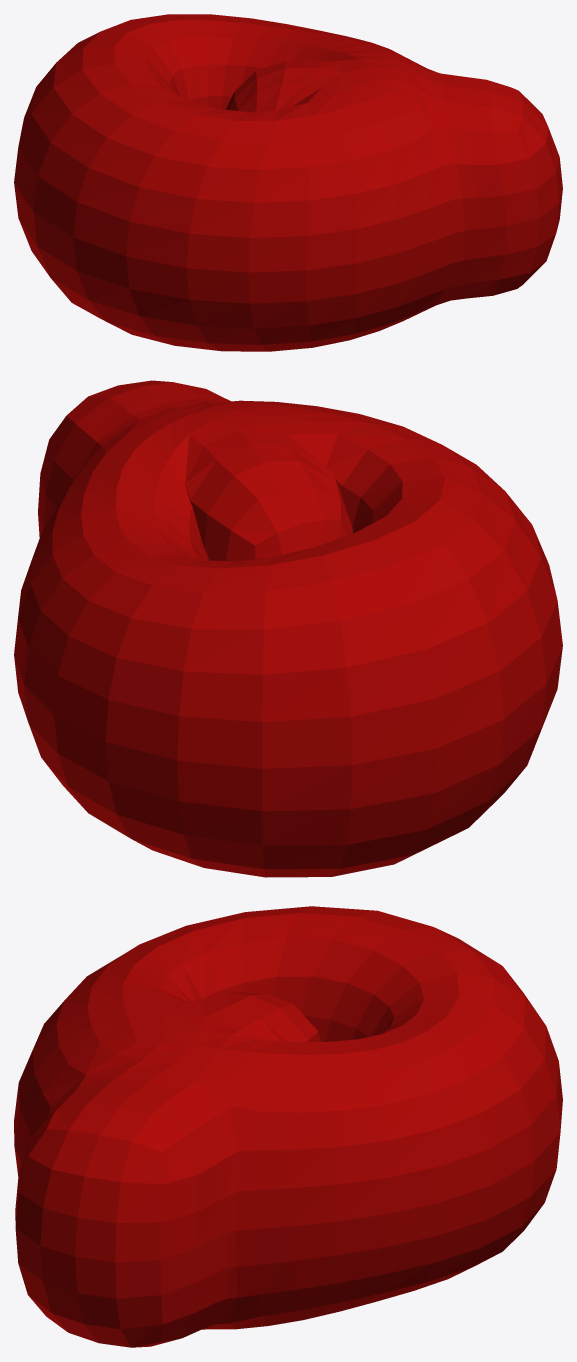
3 views of the same model, one above another, from view 1: azimuth 30°, elevation 25°; view 2: azimuth 150°, elevation 25°; view 3: azimuth 270°, elevation 25° (orthographic). The views are drawn at different scales.
Size of the model in its own units: 0.9862 by 0.5262 by 0.902.
